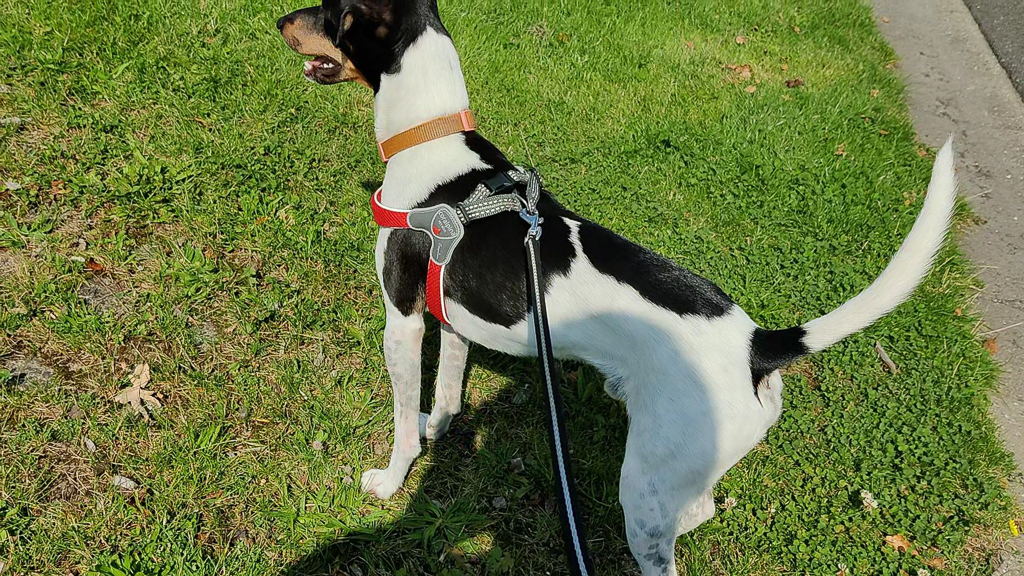Dog: (269, 0, 967, 576)
